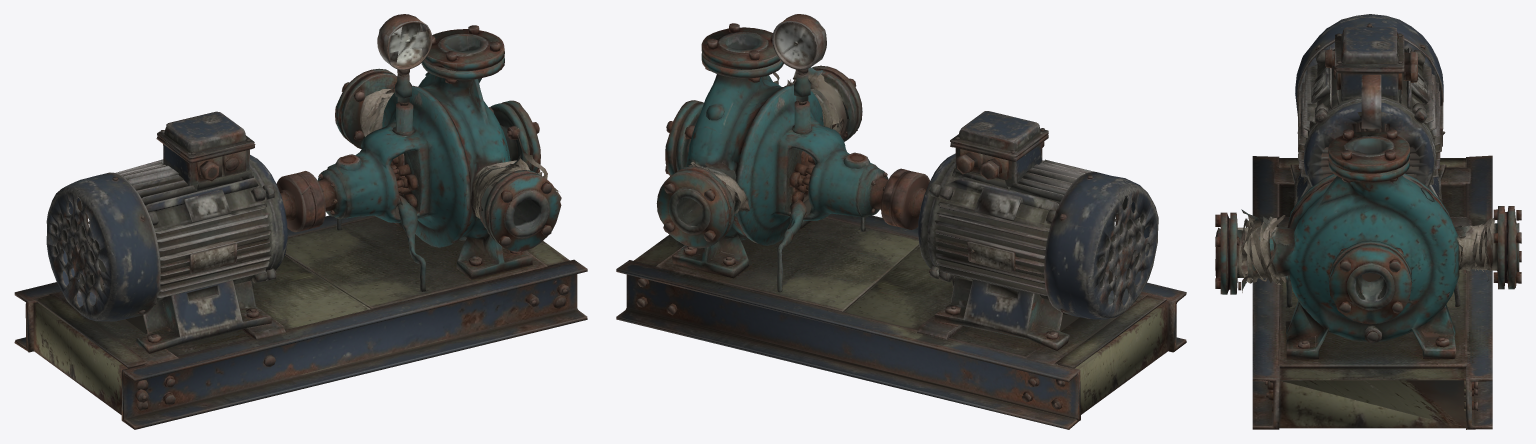
File: silo81_pump.glb
3 views of the same model, side by side, from view 1: azimuth 30°, elevation 25°; view 2: azimuth 150°, elevation 25°; view 3: azimuth 270°, elevation 25° (orthographic).
Size of the model in its own units: 0.9575 by 0.5825 by 0.5552.
Materials: 1 (1 with a texture image).
